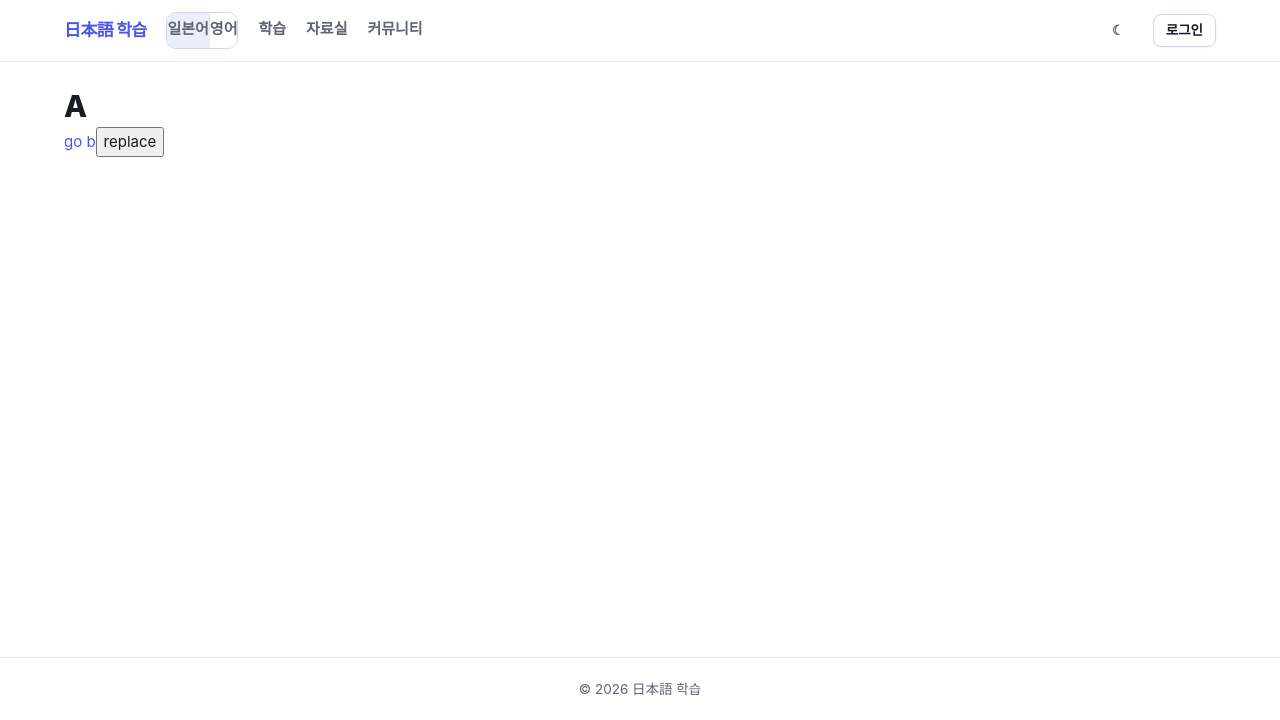
Test case: Layout이 이 훅을 켠다 (배선) › Layout 안에서 링크로 이동하면 맨 위로 간다
(page scrolled)
Click the link "go b" at (80, 141), box x1=64 y1=132 x2=96 y2=150
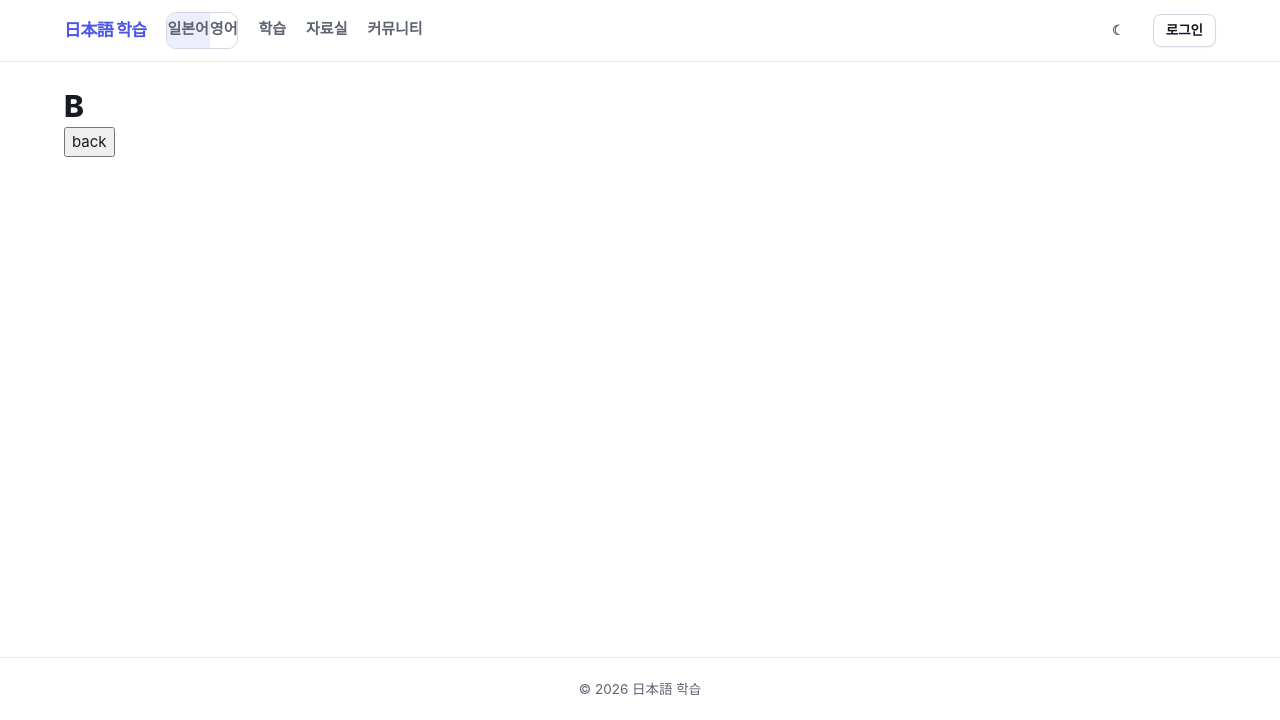
Expected: the heading "B" is shown, x1=64 y1=88 x2=83 y2=124
